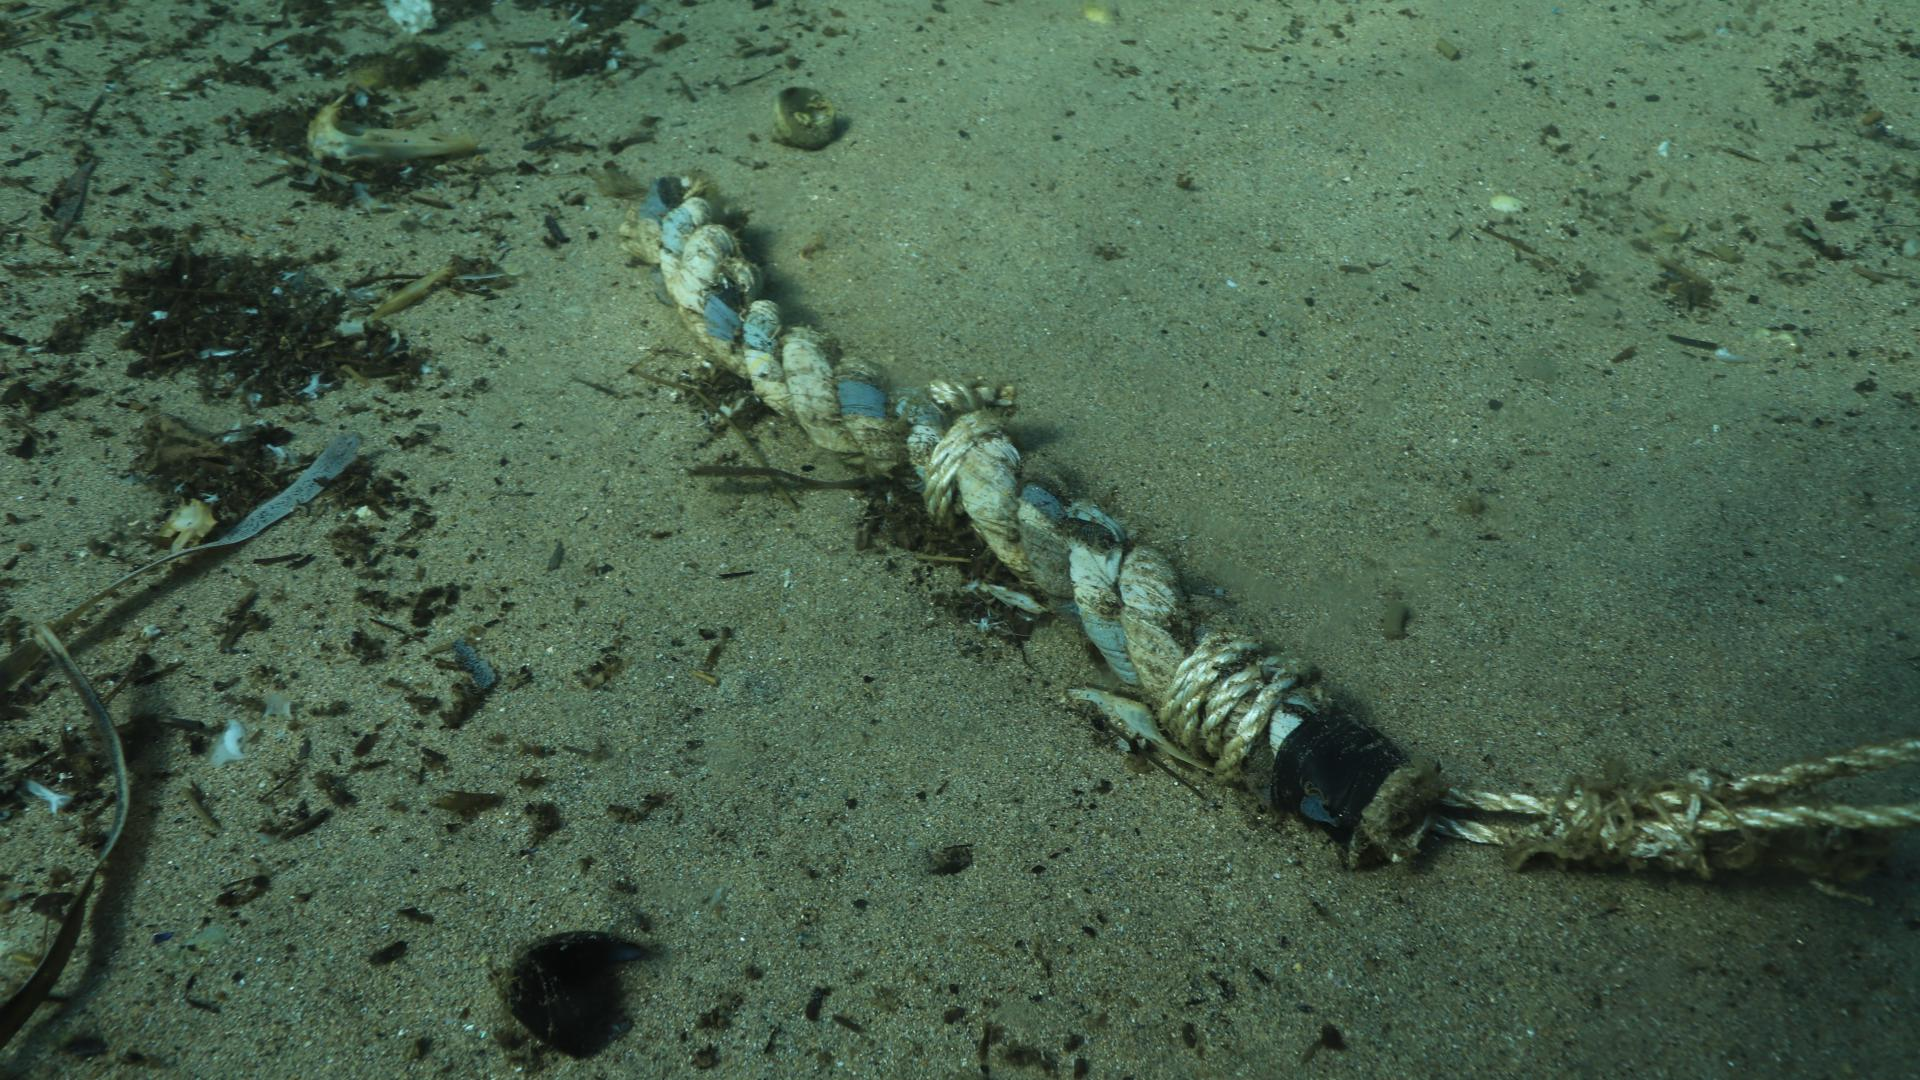bundle of ropes: (655, 185, 1445, 876), (1440, 731, 1920, 860)
